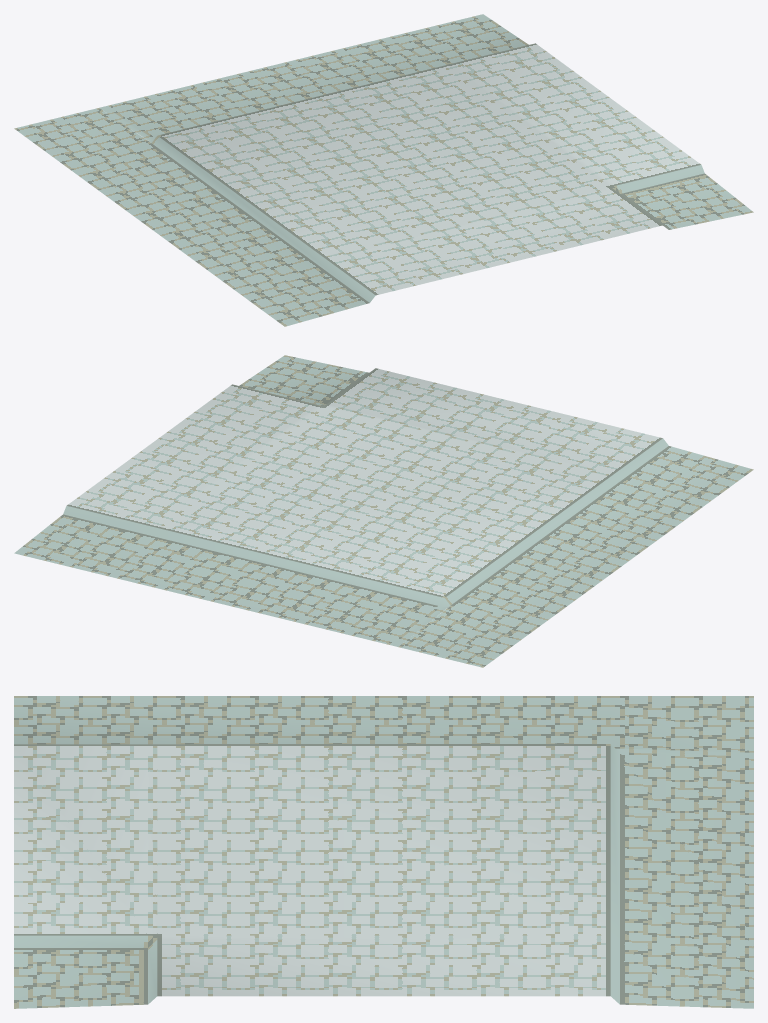
File: Urban_Street_Turn.gltf
The picture shows the model from 3 angles, top to bottom: view 1: azimuth 30°, elevation 25°; view 2: azimuth 150°, elevation 25°; view 3: azimuth 270°, elevation 25°; orthographic projection. The views are drawn at different scales.
Size of the model in its own units: 10 by 0.1883 by 10.
Materials: 1 (1 with a texture image).
